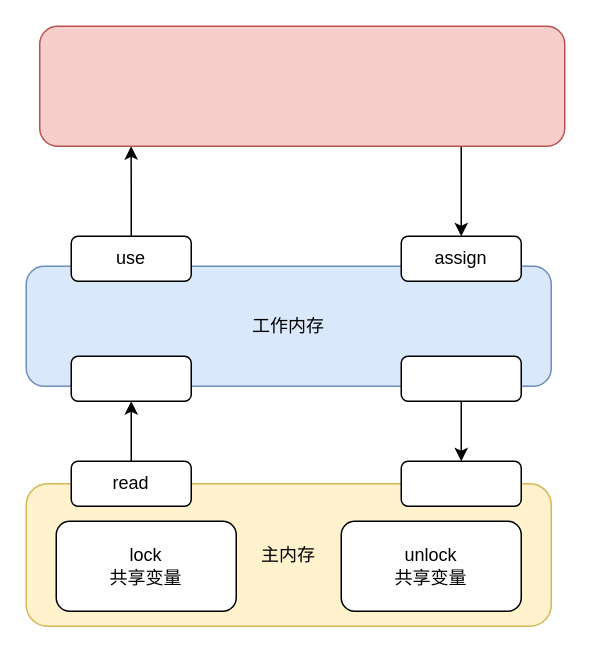
This 591x653 diagram has some shape labels left out. The shapes that lost their labels are listed below. From the top down, each one's centre as x and y in pixels, then its label:
pixel 301 85: 执行引擎
pixel 130 378: load
pixel 460 378: store
pixel 460 483: write
